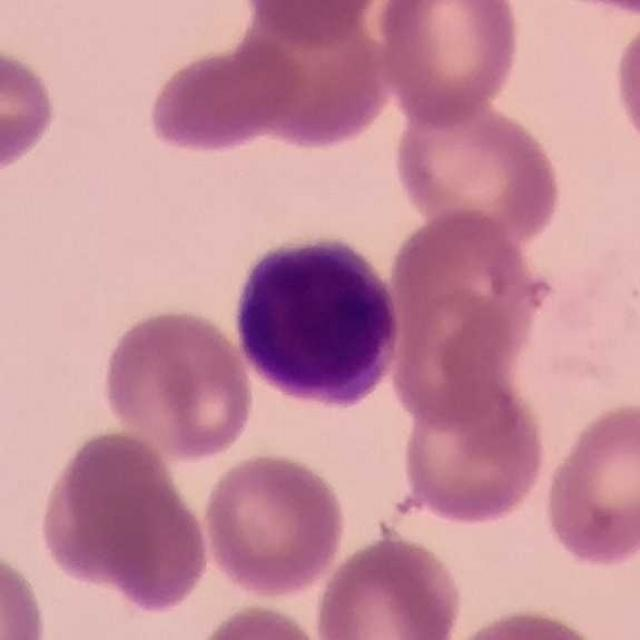Lymphocyte: (227, 225, 409, 414)
RBC: (383, 205, 549, 417), (34, 424, 212, 611), (390, 93, 566, 246), (231, 0, 395, 156), (98, 303, 257, 462), (396, 376, 549, 529), (198, 447, 350, 601), (373, 0, 525, 129), (146, 37, 303, 157), (537, 395, 640, 574), (310, 530, 466, 640), (0, 42, 61, 180), (234, 0, 394, 49), (439, 604, 613, 640), (190, 600, 332, 640), (0, 543, 52, 640), (609, 5, 640, 166), (527, 0, 640, 20)
